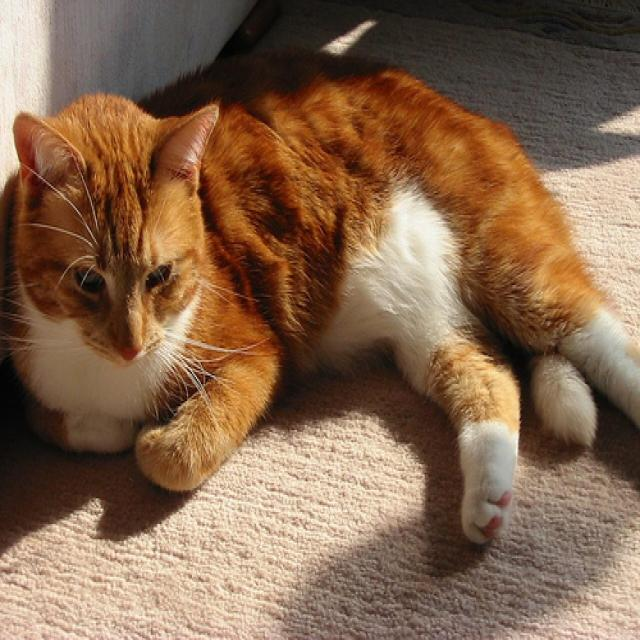left eye: (142, 259, 174, 292)
